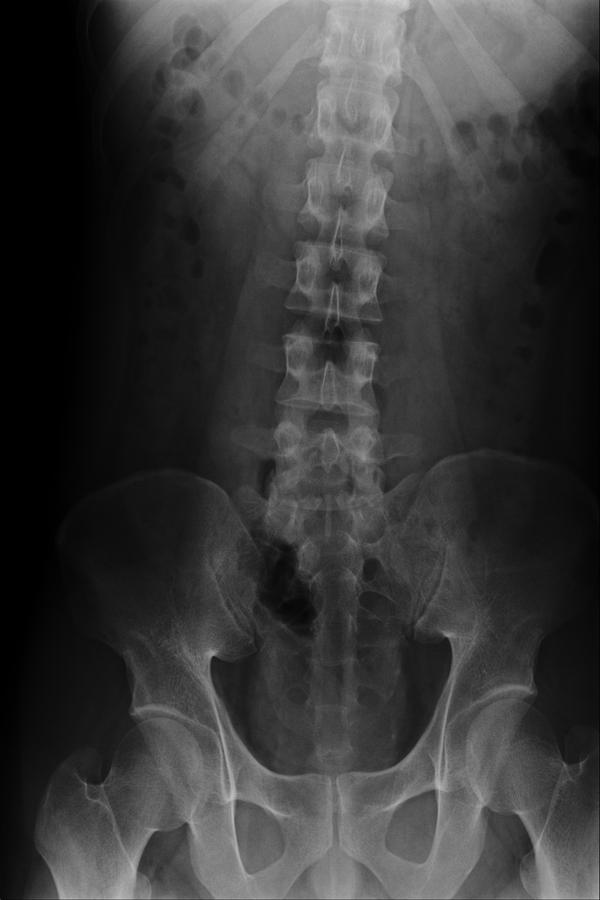lumbar scoliosis: (267, 118, 416, 543)
